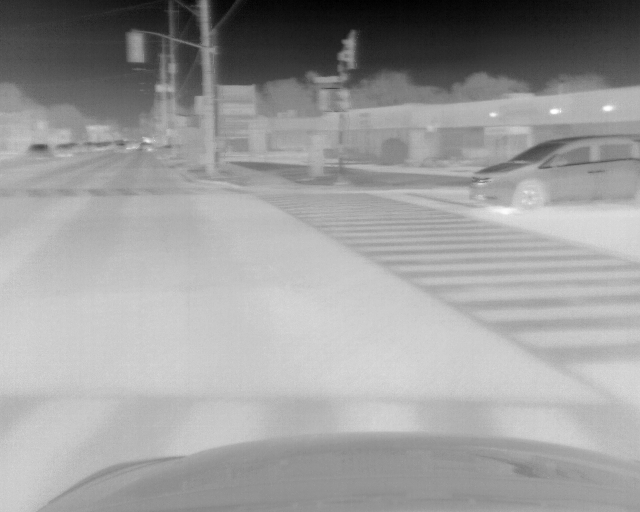car: (467, 134, 640, 215), (25, 143, 54, 162), (52, 141, 71, 158), (113, 139, 128, 153)
